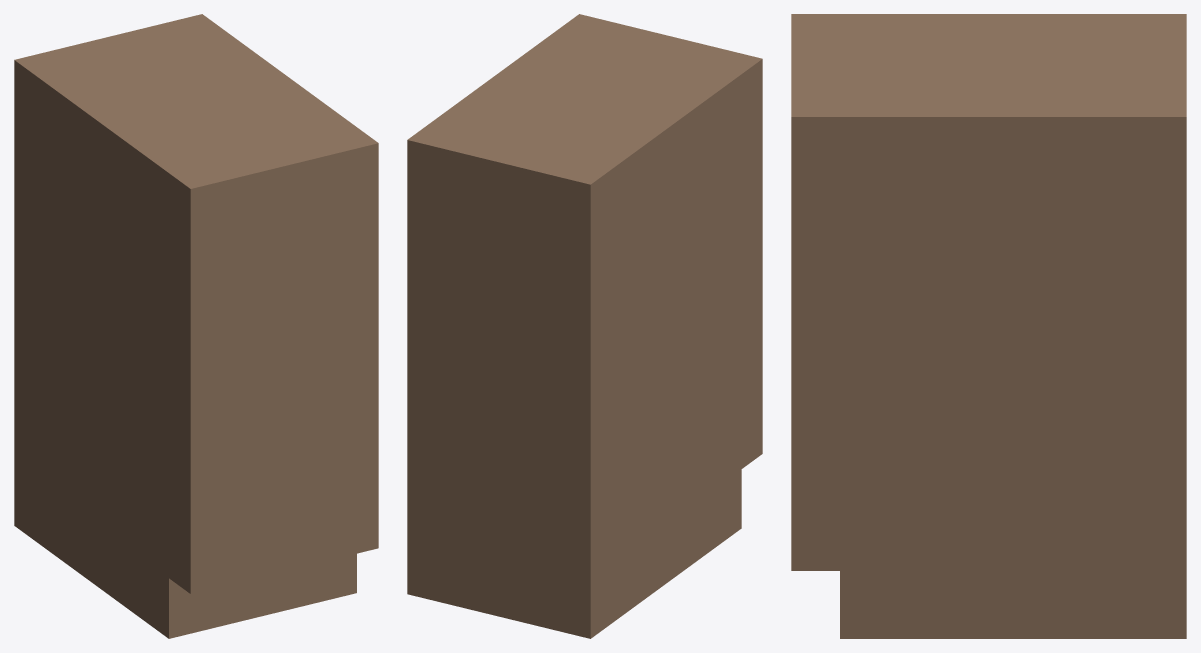
Rendered from base_cabinet_04.obj.
3 views of the same model, side by side, from view 1: azimuth 30°, elevation 25°; view 2: azimuth 150°, elevation 25°; view 3: azimuth 270°, elevation 25° (orthographic). The views are drawn at different scales.
Parts seen in each view (by area): view 1: base_cabinet_04; view 2: base_cabinet_04; view 3: base_cabinet_04.
Part boxes in pixels (x1=…): base_cabinet_04: x1=14, y1=14, x2=378, y2=638; base_cabinet_04: x1=407, y1=14, x2=762, y2=638; base_cabinet_04: x1=791, y1=14, x2=1186, y2=638.
Size of the model in its own units: 381 by 902 by 619.
